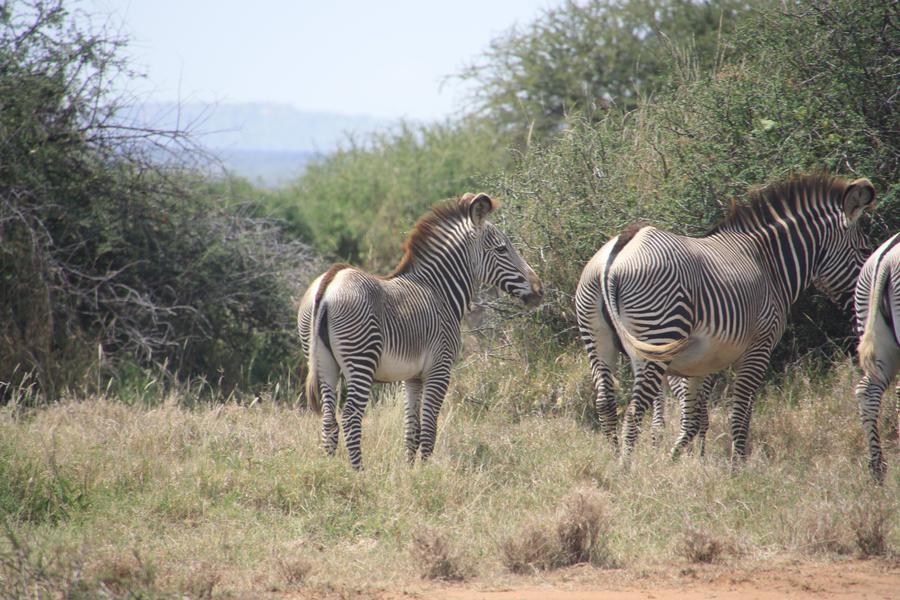zebra_grevys: (597, 222, 779, 352), (315, 262, 457, 360)
